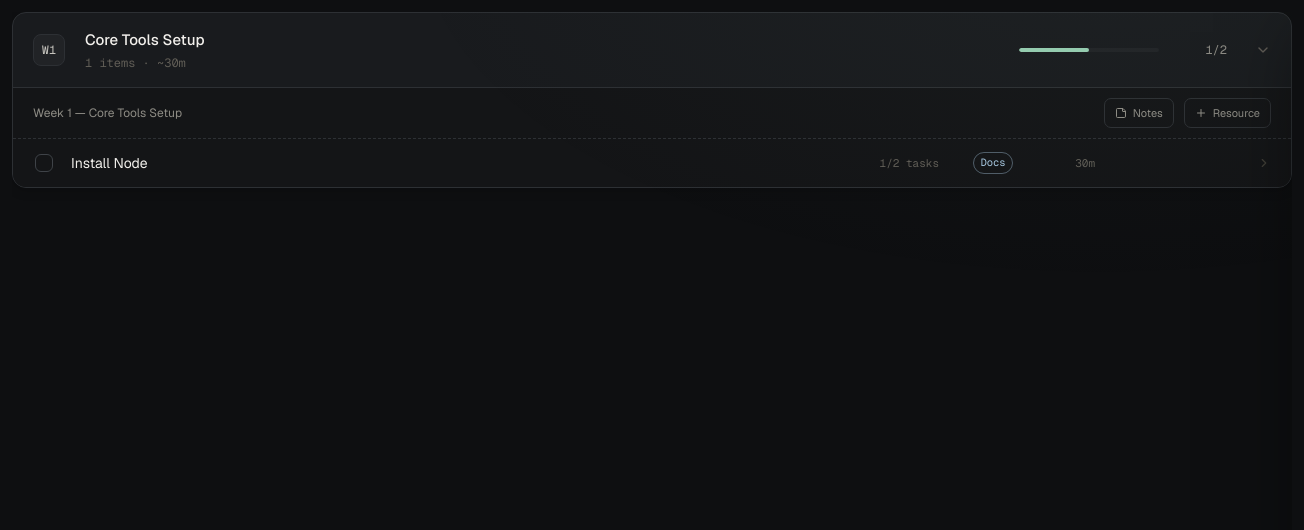
Scenario: WeekCard › toggles inline notes panel on Notes button click
Expected: the field with placeholder "write your notes" is not shown
Click the button "Notes".
click(1139, 113)  # box [1104,98,1174,128]
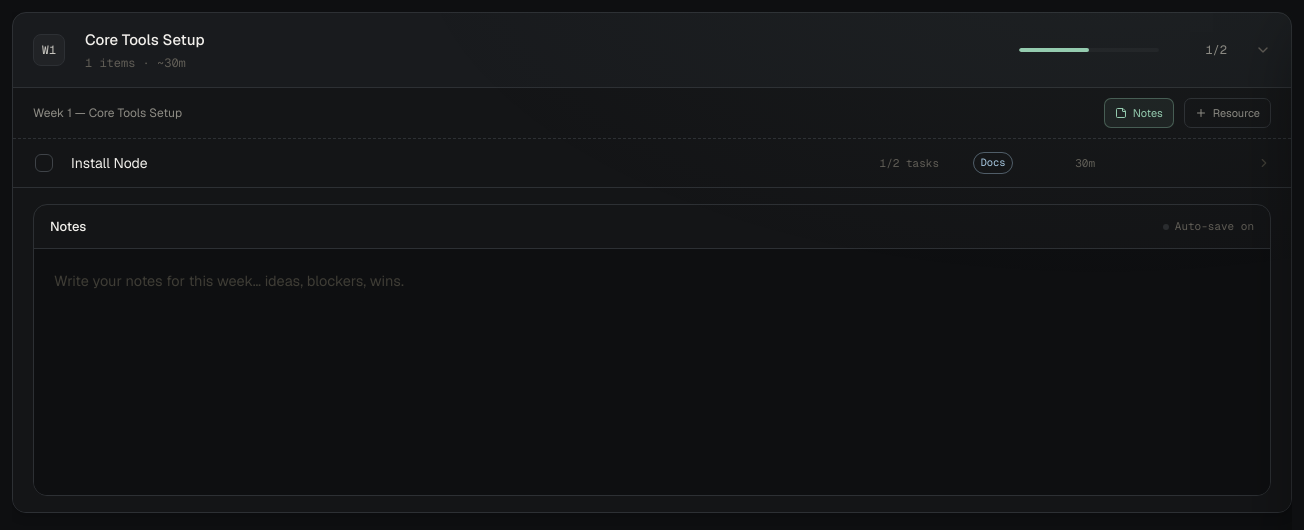
Now the text box with placeholder "Write your notes for this week… ideas, blockers, wins." is shown, box [54,269,1250,469]
